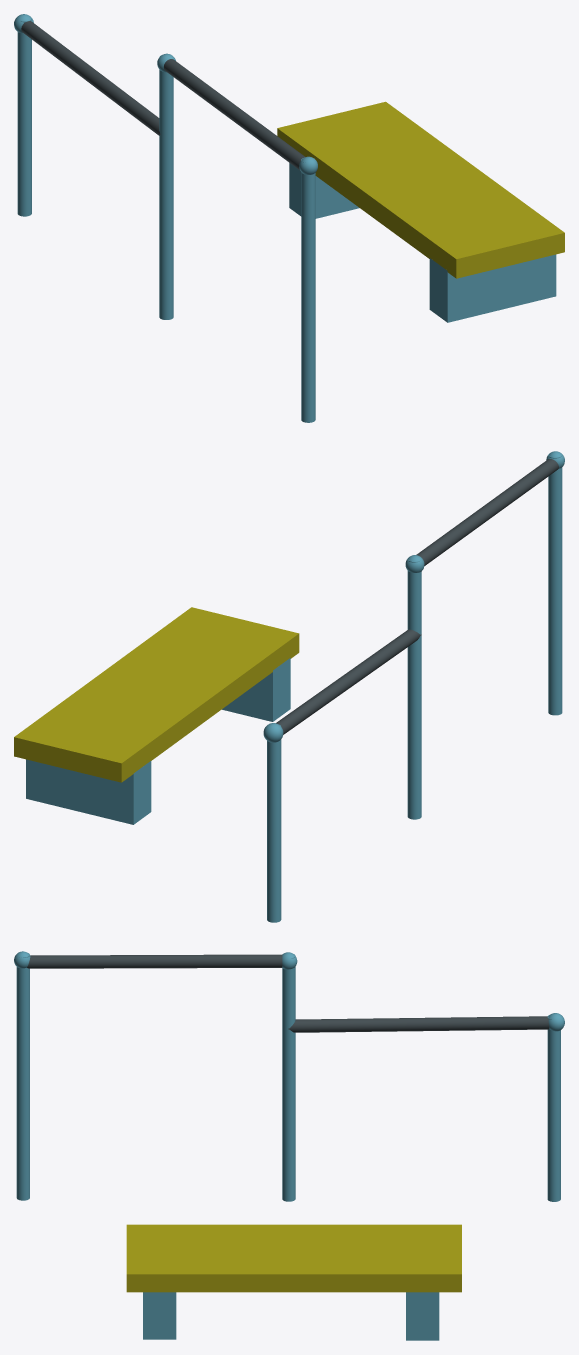
File: saigono.fbx
3 renders of one model, top to bottom at view 1: azimuth 30°, elevation 25°; view 2: azimuth 150°, elevation 25°; view 3: azimuth 270°, elevation 25°, orthographic. The views are drawn at different scales.
Parts seen in each view (by area): view 1: pCube1, pCube2, pCylinder1, pCylinder2, pCylinder4, pCylinder5, pCylinder3, pCube3; view 2: pCube1, pCube3, pCylinder1, pCylinder2, pCylinder4, pCylinder5, pCylinder3, pCube2; view 3: pCube1, pCylinder5, pCylinder3, pCylinder1, pCylinder2, pCylinder4, pCube3, pCube2.
Boxes of the visible parts, x1=… form: pCube1: x1=277, y1=101, x2=564, y2=278; pCube2: x1=429, y1=254, x2=556, y2=322; pCylinder1: x1=301, y1=157, x2=315, y2=422; pCylinder2: x1=159, y1=55, x2=173, y2=319; pCylinder4: x1=17, y1=19, x2=31, y2=216; pCylinder5: x1=21, y1=21, x2=160, y2=135; pCylinder3: x1=164, y1=59, x2=305, y2=170; pCube3: x1=289, y1=163, x2=359, y2=218; pCube1: x1=14, y1=607, x2=299, y2=782; pCube3: x1=26, y1=759, x2=151, y2=824; pCylinder1: x1=548, y1=453, x2=562, y2=715; pCylinder2: x1=407, y1=558, x2=421, y2=819; pCylinder4: x1=267, y1=724, x2=281, y2=922; pCylinder5: x1=276, y1=629, x2=421, y2=734; pCylinder3: x1=416, y1=459, x2=558, y2=565; pCube2: x1=222, y1=658, x2=290, y2=721; pCube1: x1=126, y1=1224, x2=461, y2=1292; pCylinder5: x1=288, y1=1016, x2=549, y2=1032; pCylinder3: x1=27, y1=954, x2=282, y2=968; pCylinder1: x1=16, y1=953, x2=29, y2=1200; pCylinder2: x1=282, y1=954, x2=295, y2=1201; pCylinder4: x1=547, y1=1015, x2=560, y2=1201; pCube3: x1=406, y1=1292, x2=439, y2=1340; pCube2: x1=143, y1=1292, x2=176, y2=1339.
Size of the model in its own units: 10.33 by 8.13 by 16.44.
